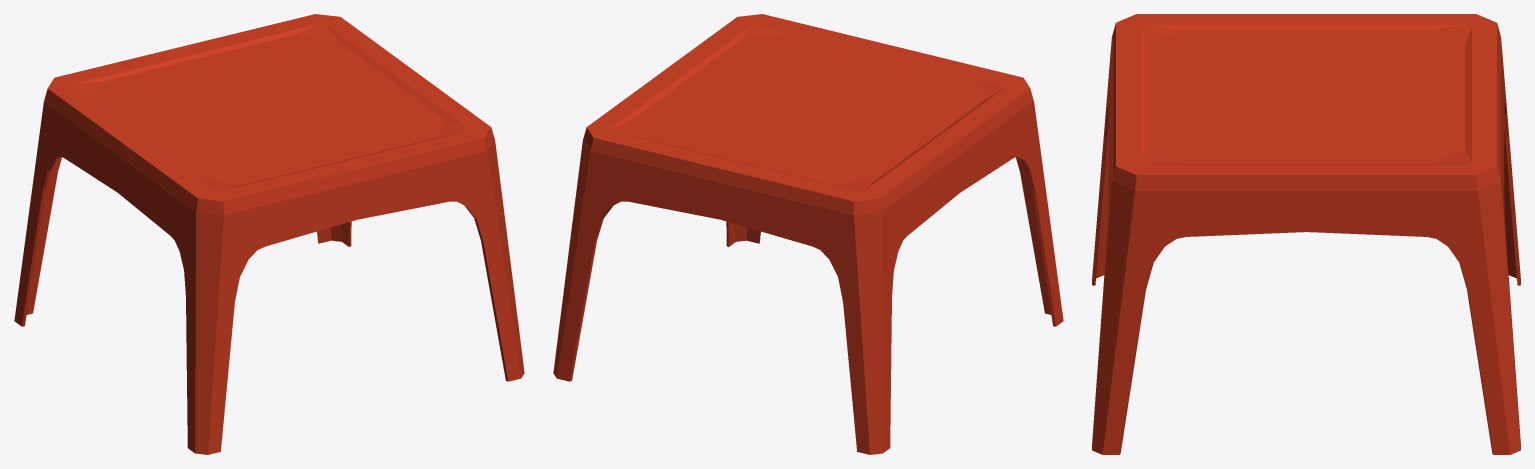
File: SM_Furniture_TableLow_Red_01.obj
3 views of the same model, side by side, from view 1: azimuth 30°, elevation 25°; view 2: azimuth 150°, elevation 25°; view 3: azimuth 270°, elevation 25° (orthographic). The views are drawn at different scales.
Visible parts, largest first — view 1: SM_Furniture_TableLow_Red_01; view 2: SM_Furniture_TableLow_Red_01; view 3: SM_Furniture_TableLow_Red_01.
Part boxes in pixels (box(x1,y1,x2,y2)): SM_Furniture_TableLow_Red_01: box(14, 14, 524, 454); SM_Furniture_TableLow_Red_01: box(553, 14, 1063, 454); SM_Furniture_TableLow_Red_01: box(1092, 14, 1520, 454).
Bounding box in the file's own units: 0.648 × 0.45 × 0.648.
1 material, 1 textured.
